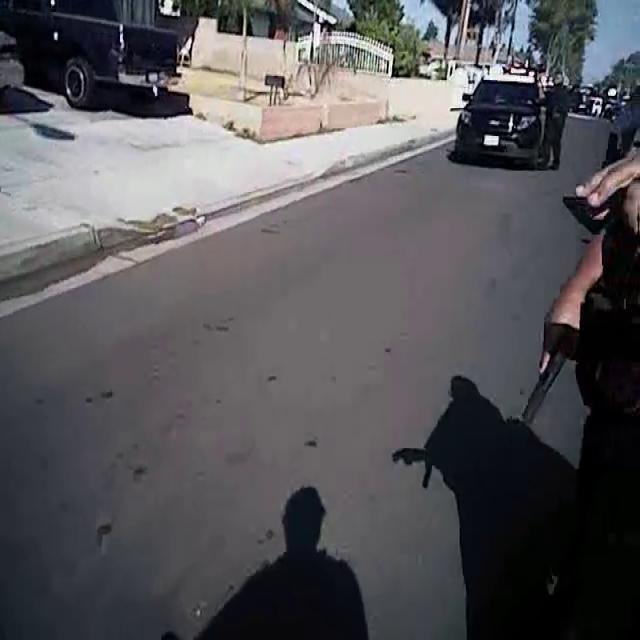gun: (514, 298, 581, 466)
